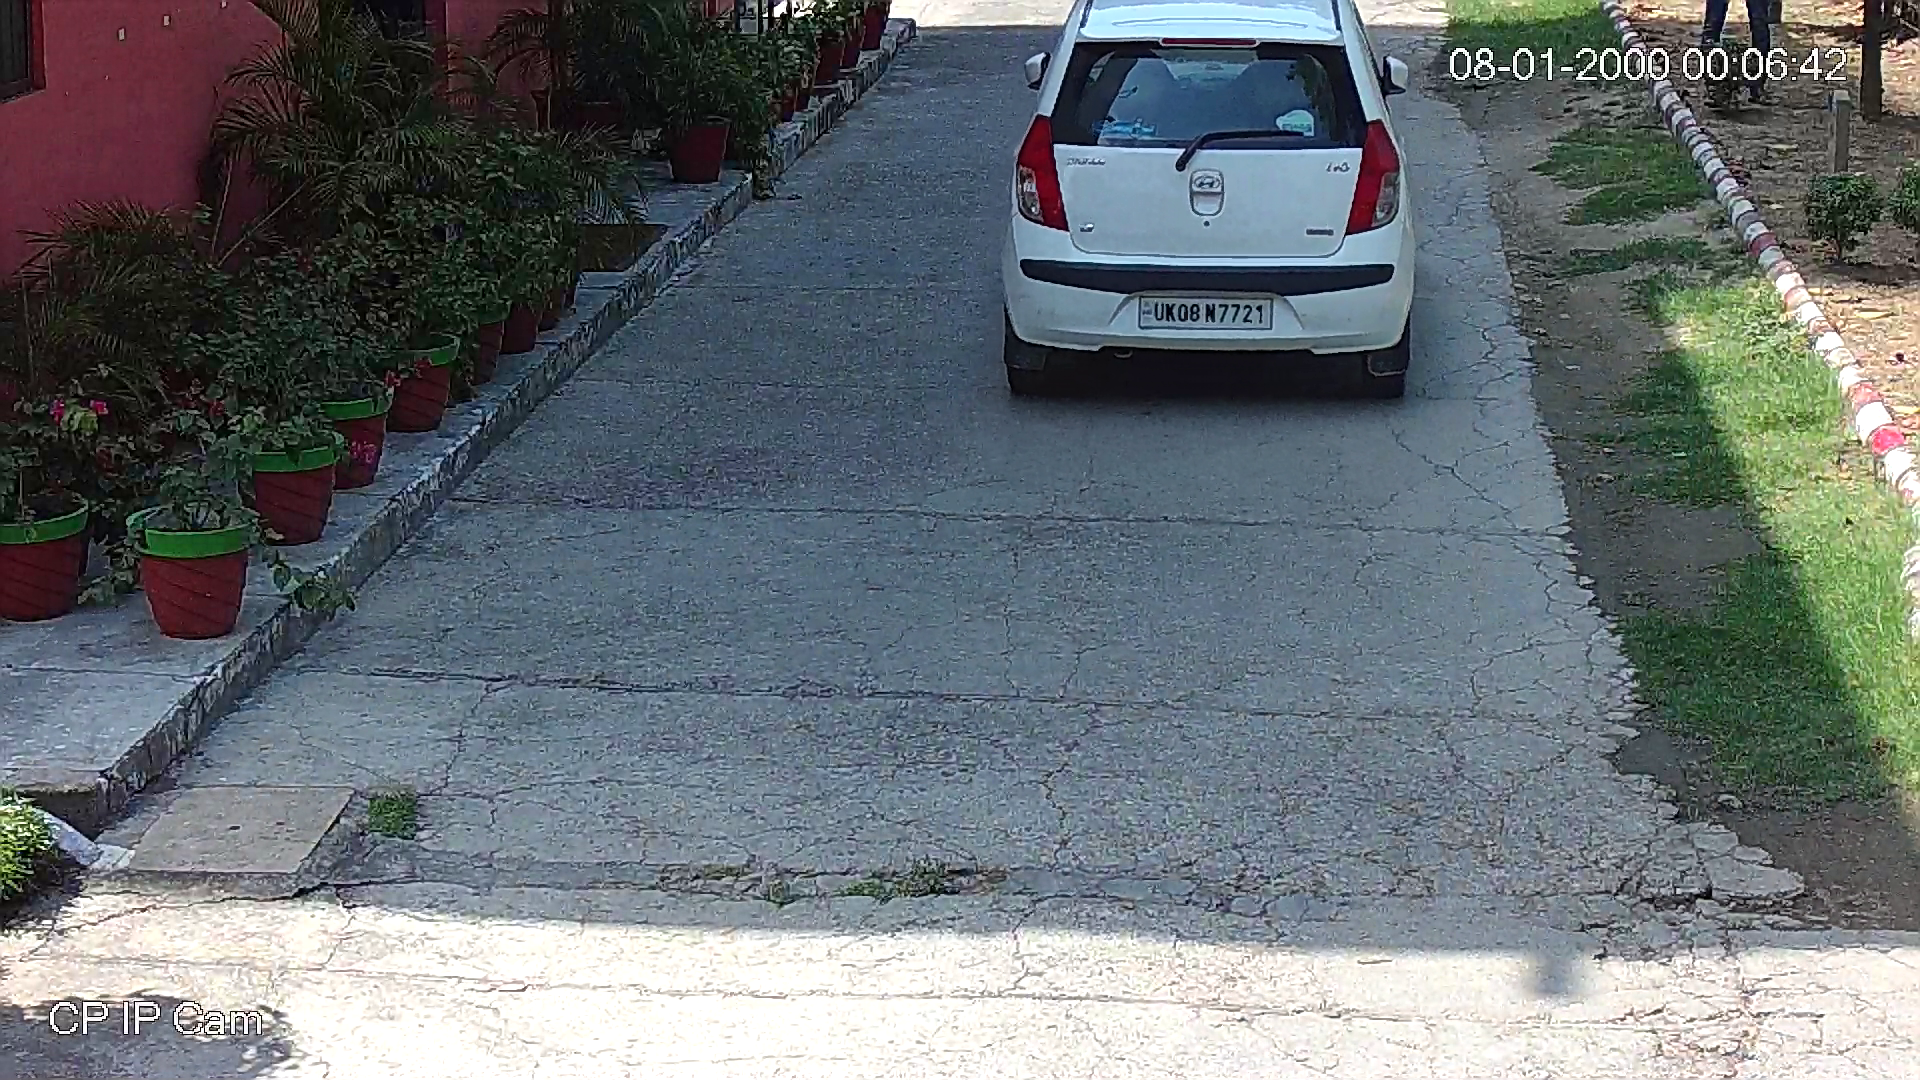plate: (1131, 291, 1279, 330)
